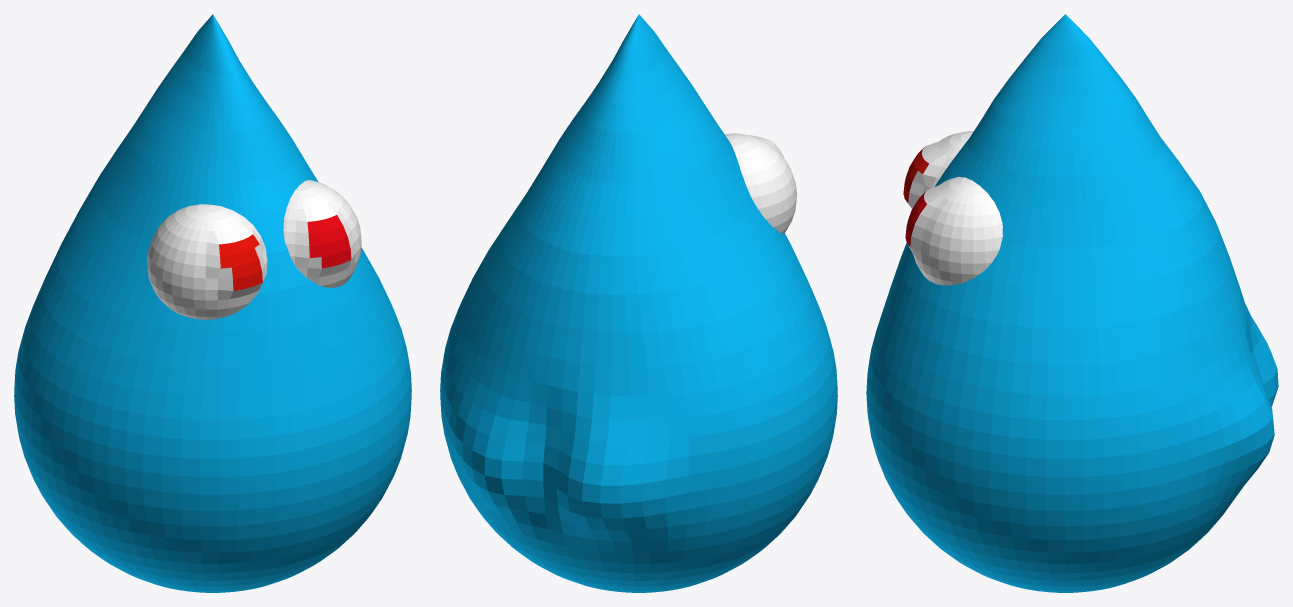
The model's file is Wota.fbx.
3 renders of one model, left to right at view 1: azimuth 30°, elevation 25°; view 2: azimuth 150°, elevation 25°; view 3: azimuth 270°, elevation 25°, orthographic.
Visible parts, largest first — view 1: Sphere, Sphere.001, Sphere.002; view 2: Sphere, Sphere.001; view 3: Sphere, Sphere.002, Sphere.001.
Boxes of the visible parts, x1,y1,x2,y2 form: Sphere: (14, 14, 411, 592); Sphere.001: (147, 204, 267, 319); Sphere.002: (283, 180, 361, 287); Sphere: (440, 14, 837, 592); Sphere.001: (725, 133, 796, 233); Sphere: (866, 14, 1278, 592); Sphere.002: (905, 177, 1002, 285); Sphere.001: (903, 131, 973, 208).
Bounding box in the file's own units: 197 × 307 × 205.
